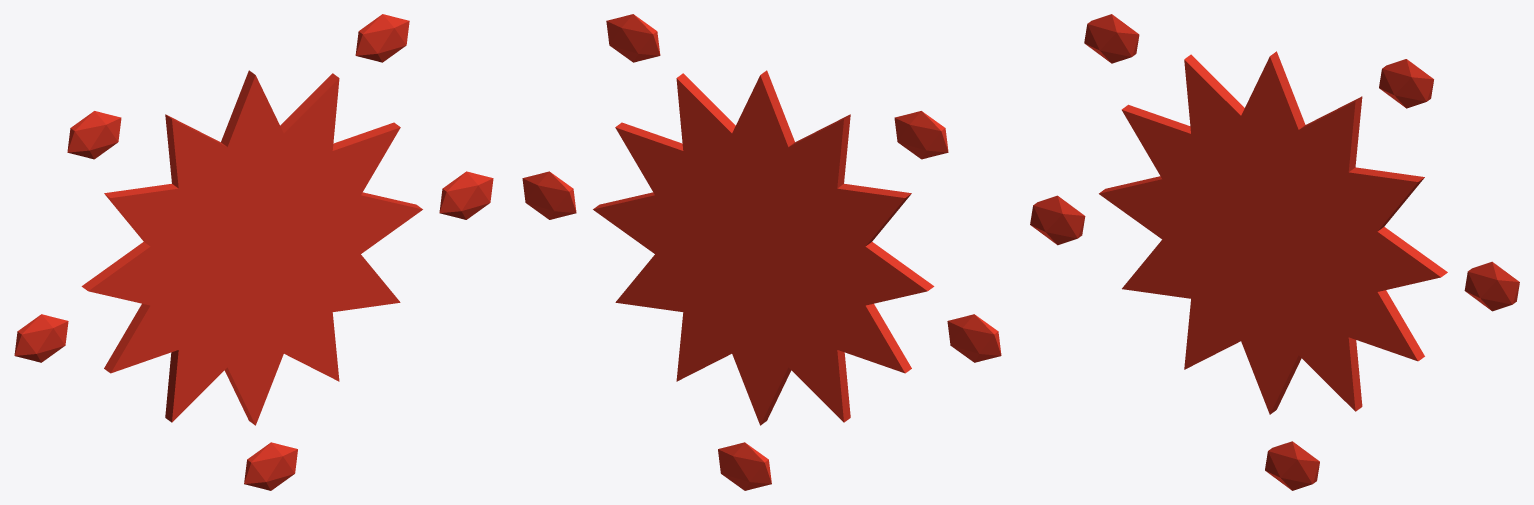
The model's file is tomato-splat.glb.
3 renders of one model, left to right at view 1: azimuth 30°, elevation 25°; view 2: azimuth 150°, elevation 25°; view 3: azimuth 330°, elevation 25°, orthographic. The views are drawn at different scales.
Visible parts, largest first — view 1: splat, droplet-1, droplet-3, droplet-0, droplet-2, droplet-4; view 2: splat, droplet-1, droplet-3, droplet-0, droplet-2, droplet-4; view 3: splat, droplet-1, droplet-2, droplet-3, droplet-0, droplet-4.
Boxes of the visible parts, <box> form: splat: <box>81,70,422,425</box>; droplet-1: <box>67,111,121,159</box>; droplet-3: <box>355,14,409,62</box>; droplet-0: <box>439,171,493,219</box>; droplet-2: <box>244,442,297,490</box>; droplet-4: <box>14,314,68,362</box>; splat: <box>593,70,934,425</box>; droplet-1: <box>894,111,948,159</box>; droplet-3: <box>606,14,660,62</box>; droplet-0: <box>522,171,576,219</box>; droplet-2: <box>718,442,771,490</box>; droplet-4: <box>947,314,1001,362</box>; splat: <box>1099,51,1447,414</box>; droplet-1: <box>1084,14,1139,63</box>; droplet-2: <box>1265,441,1319,490</box>; droplet-3: <box>1379,59,1433,108</box>; droplet-0: <box>1464,261,1519,311</box>; droplet-4: <box>1030,195,1085,245</box>.
Size of the model in its own units: 1.03 by 0.9233 by 0.0255.
